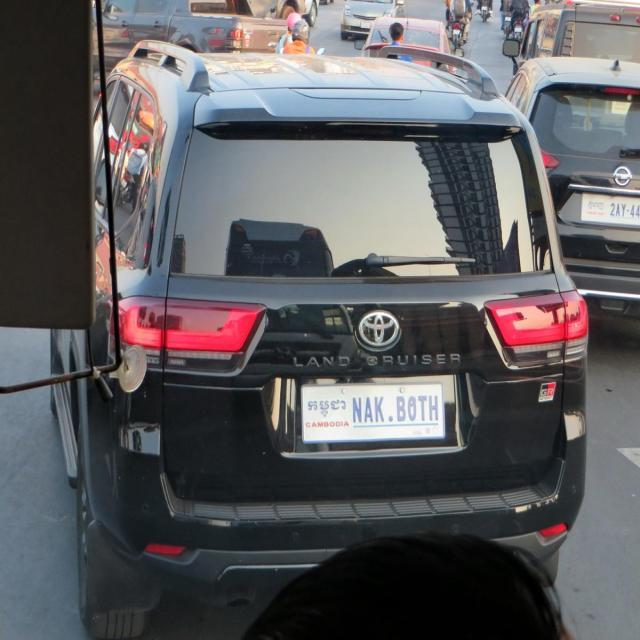Cambodia: (308, 396, 348, 420)
